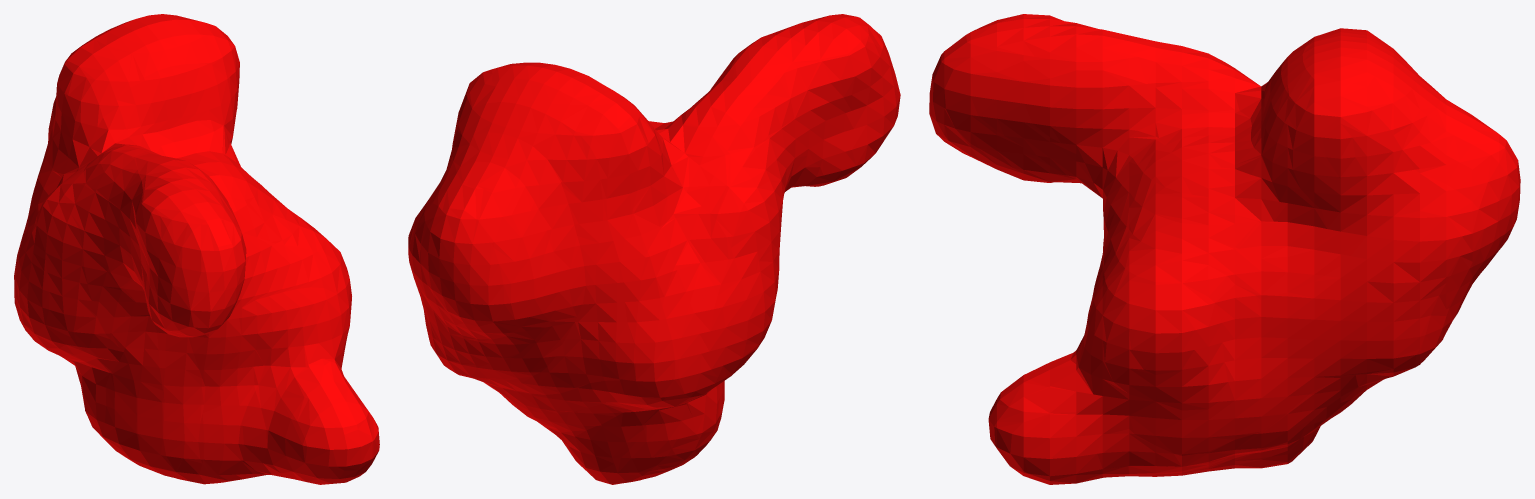
The model's file is yggX_coarse.dae.
The picture shows the model from 3 angles, left to right: view 1: azimuth 30°, elevation 25°; view 2: azimuth 150°, elevation 25°; view 3: azimuth 270°, elevation 25°; orthographic projection. The views are drawn at different scales.
Visible parts, largest first — view 1: yggX; view 2: yggX; view 3: yggX.
Boxes of the visible parts, left/top/right/bottom form: yggX: left=14, top=14, right=379, bottom=484; yggX: left=408, top=14, right=900, bottom=484; yggX: left=929, top=14, right=1520, bottom=484.
Size of the model in its own units: 29.3 by 40.91 by 50.16.
